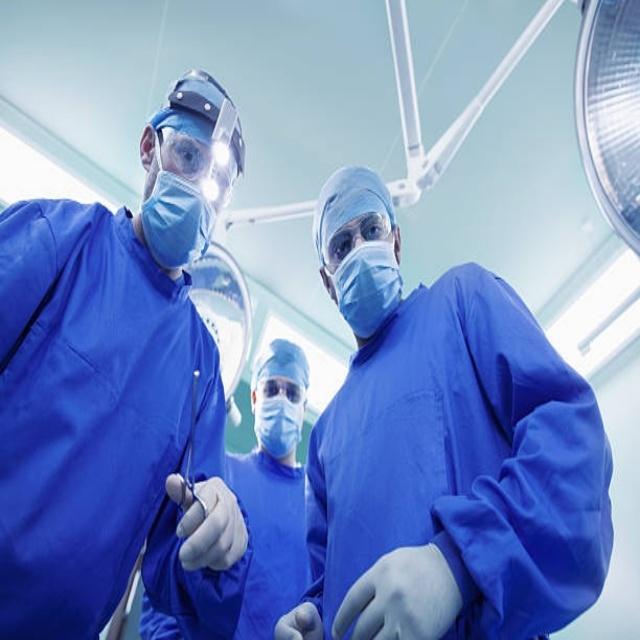Gafas: (146, 116, 238, 218), (321, 212, 394, 275), (257, 379, 305, 405)
Guantes: (332, 538, 464, 640), (170, 475, 249, 574), (274, 599, 325, 640)
Mascara: (140, 164, 217, 269), (332, 238, 403, 337), (254, 390, 303, 459)
